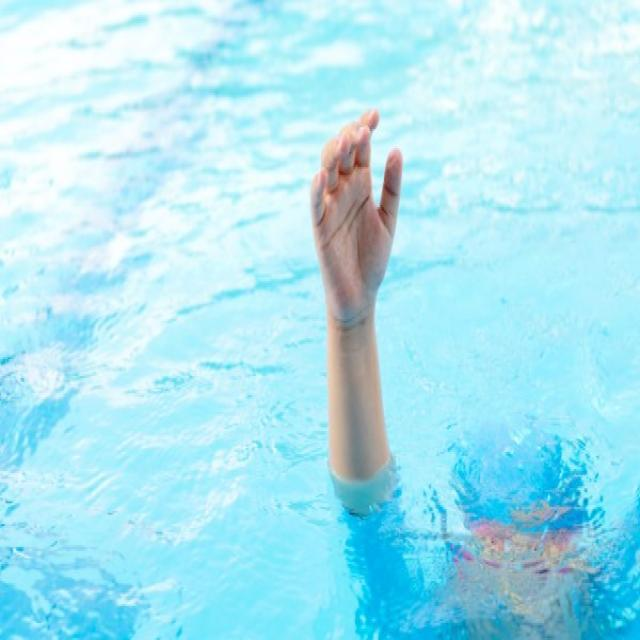Drowning: (243, 83, 633, 640)
